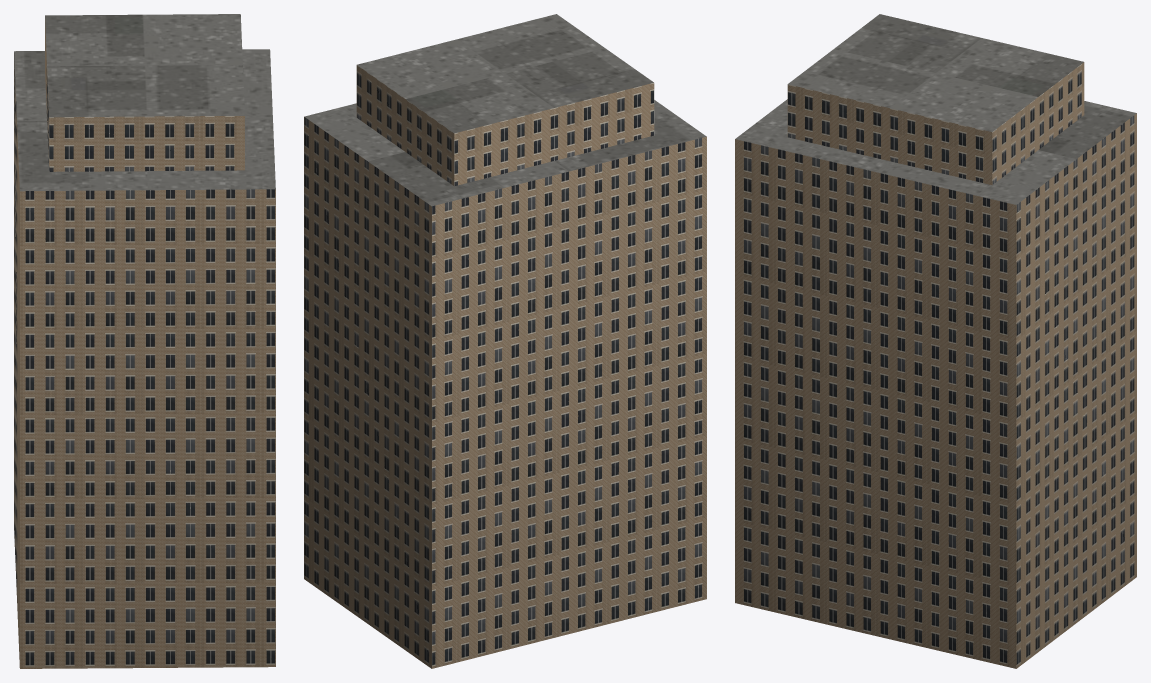
File: drake.glb
3 renders of one model, left to right at view 1: azimuth 30°, elevation 25°; view 2: azimuth 150°, elevation 25°; view 3: azimuth 270°, elevation 25°, orthographic. The views are drawn at different scales.
Parts seen in each view (by area): view 1: drake; view 2: drake; view 3: drake.
Boxes of the visible parts, x1,y1,x2,y2 form: drake: [14, 14, 275, 668]; drake: [304, 14, 706, 668]; drake: [735, 14, 1136, 668].
Bounding box in the file's own units: 51.07 × 78 × 54.97.
Materials: 4 (4 with a texture image).
